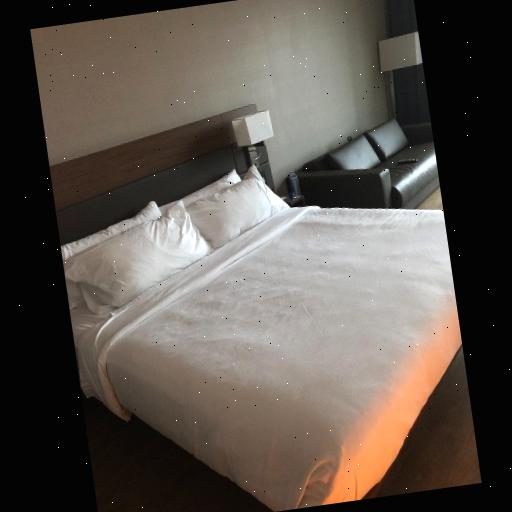clean_bed: (48, 110, 460, 511)
lamp: (364, 24, 428, 126), (226, 108, 280, 172)
organised_pillow: (58, 166, 289, 318)
